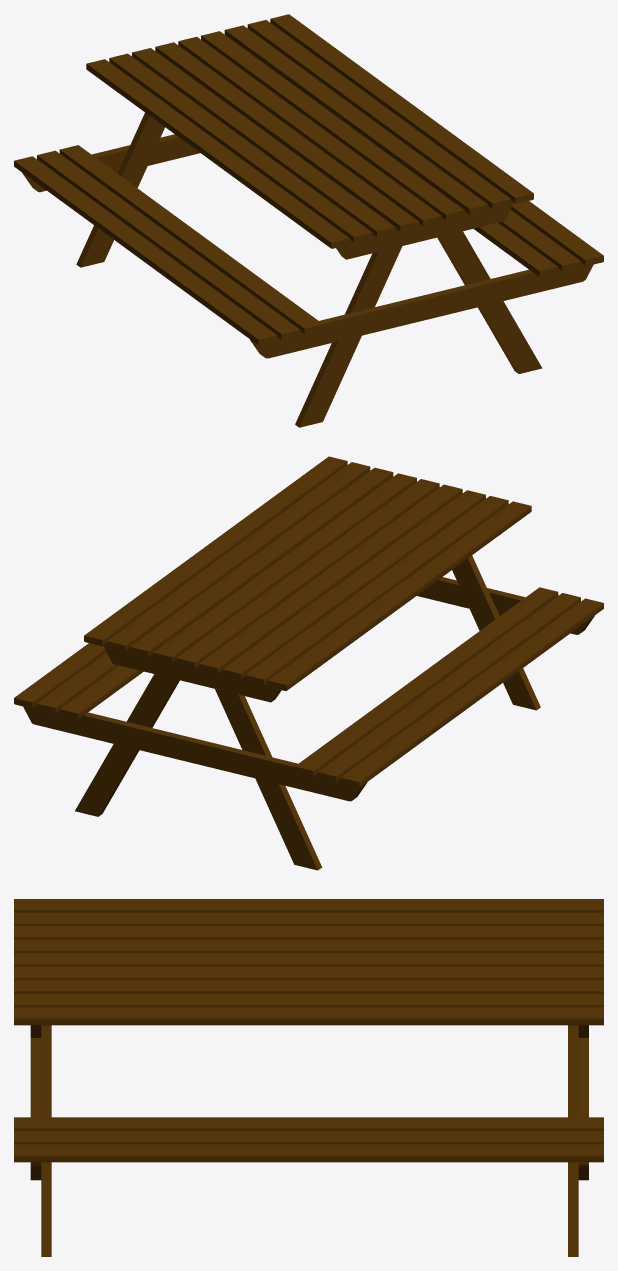
Rendered from Table.fbx.
3 renders of one model, top to bottom at view 1: azimuth 30°, elevation 25°; view 2: azimuth 150°, elevation 25°; view 3: azimuth 270°, elevation 25°, orthographic. The views are drawn at different scales.
Visible parts, largest first — view 1: Table1; view 2: Table1; view 3: Table1.
Part boxes in pixels (left/top/right/bottom): Table1: left=14, top=14, right=603, bottom=427; Table1: left=14, top=456, right=603, bottom=870; Table1: left=14, top=899, right=603, bottom=1256.
Bounding box in the file's own units: 232 × 121 × 285.
